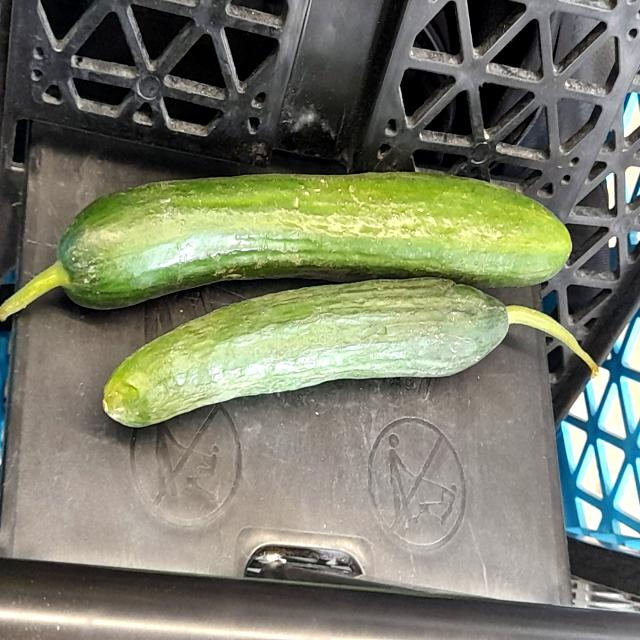cucumber: (40, 159, 593, 319), (90, 270, 588, 441)
